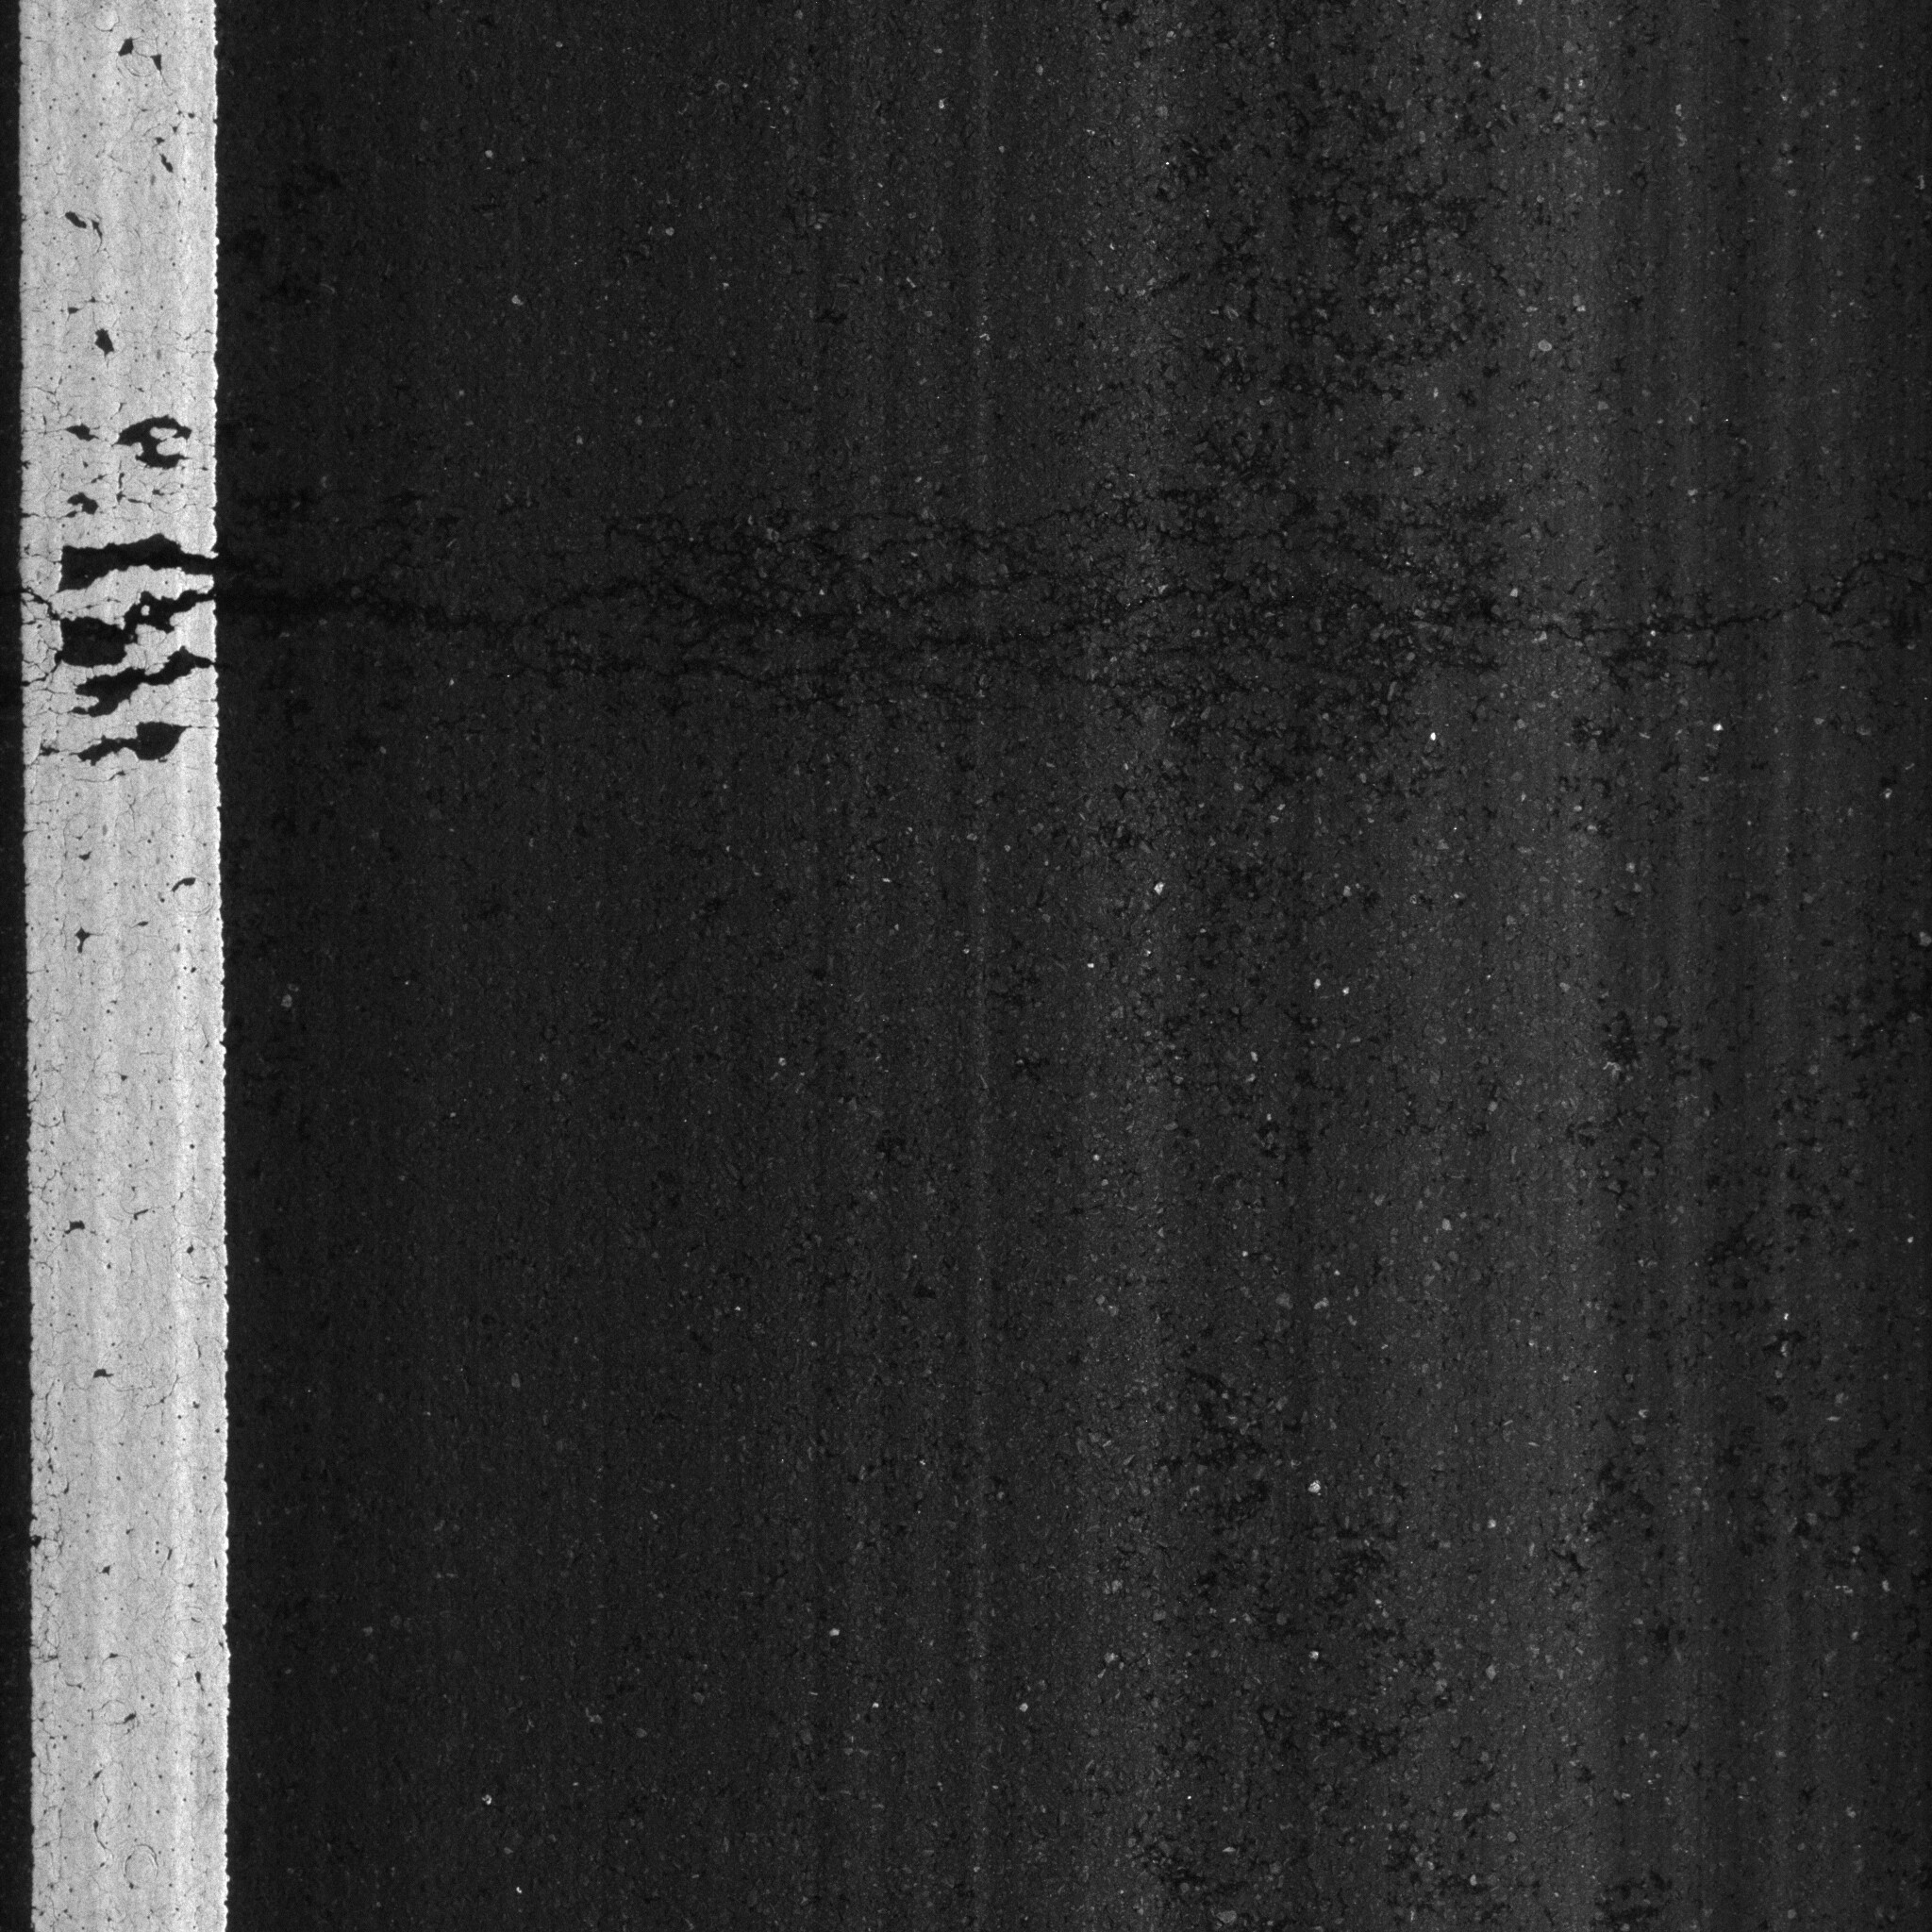alligator: (46, 455, 1932, 801)
